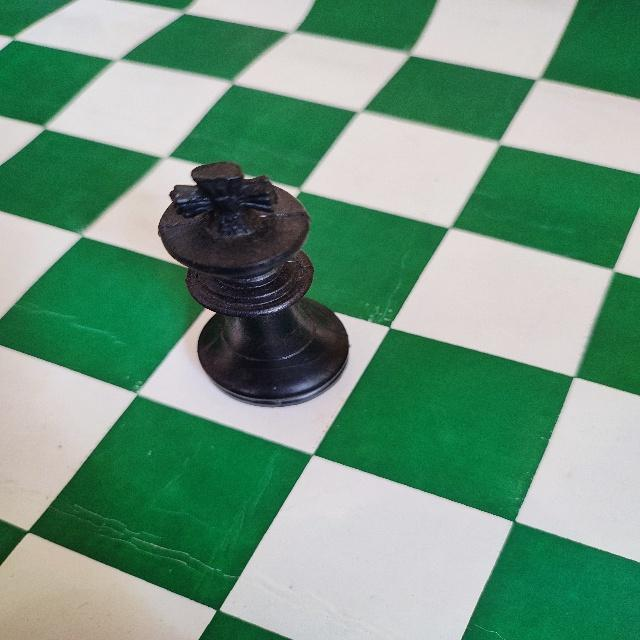King: (156, 156, 353, 410)
